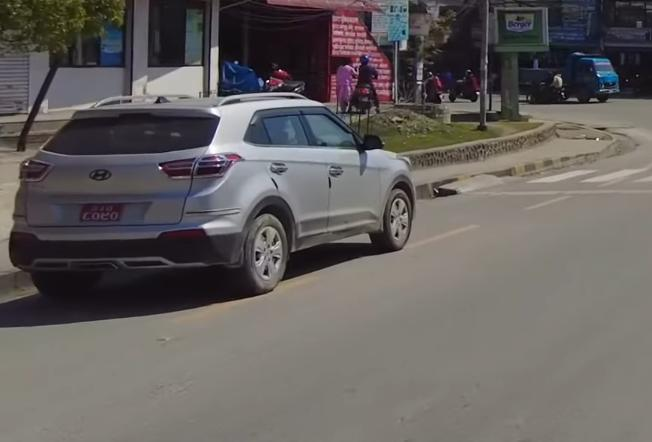car: (14, 90, 414, 291)
mini_truck: (516, 46, 621, 107)
